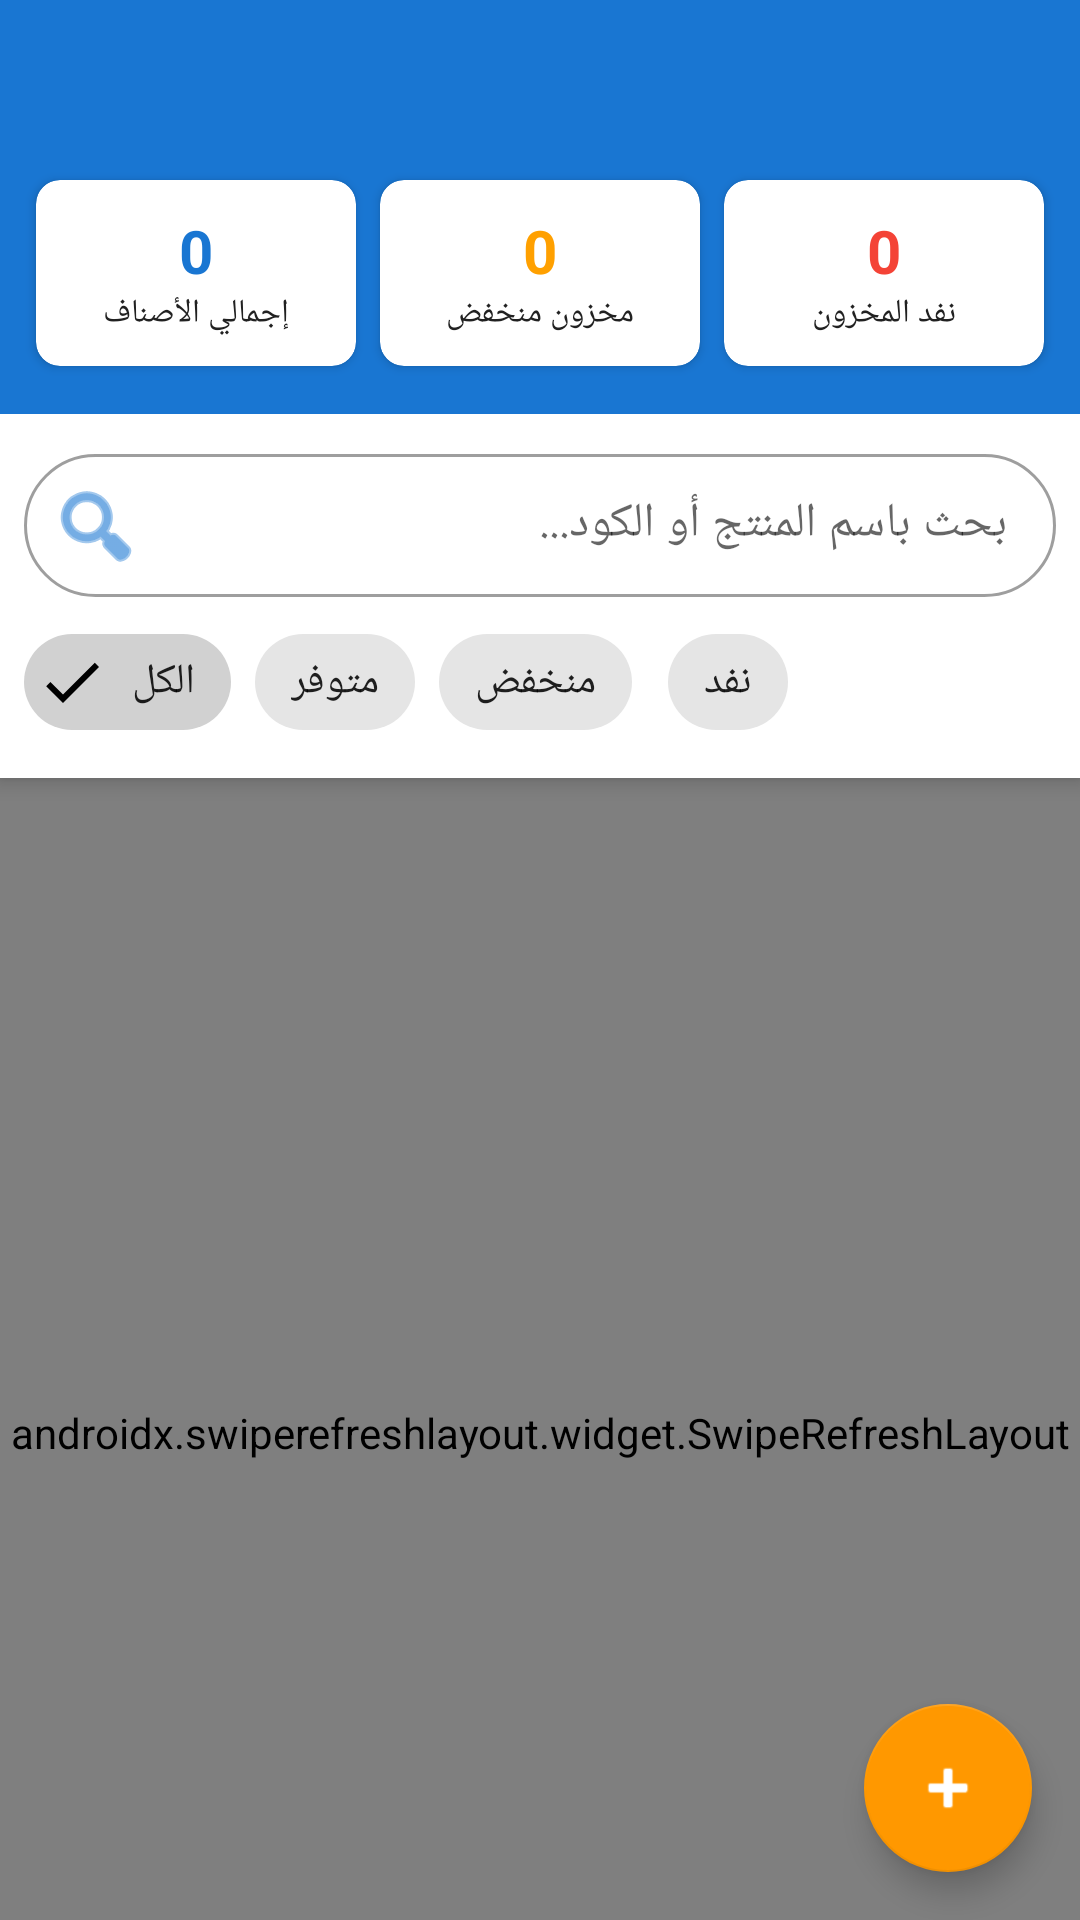

Icons on this 1080px x 1920px Android screen, each with the point to tap as (x=x, y=y):
إضافة منتج: (x=948, y=1788)
